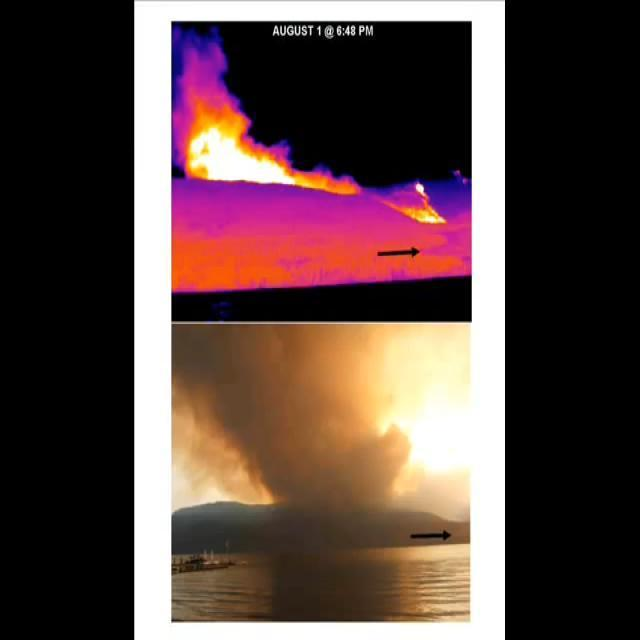fire: (170, 100, 371, 199), (402, 180, 454, 231)
